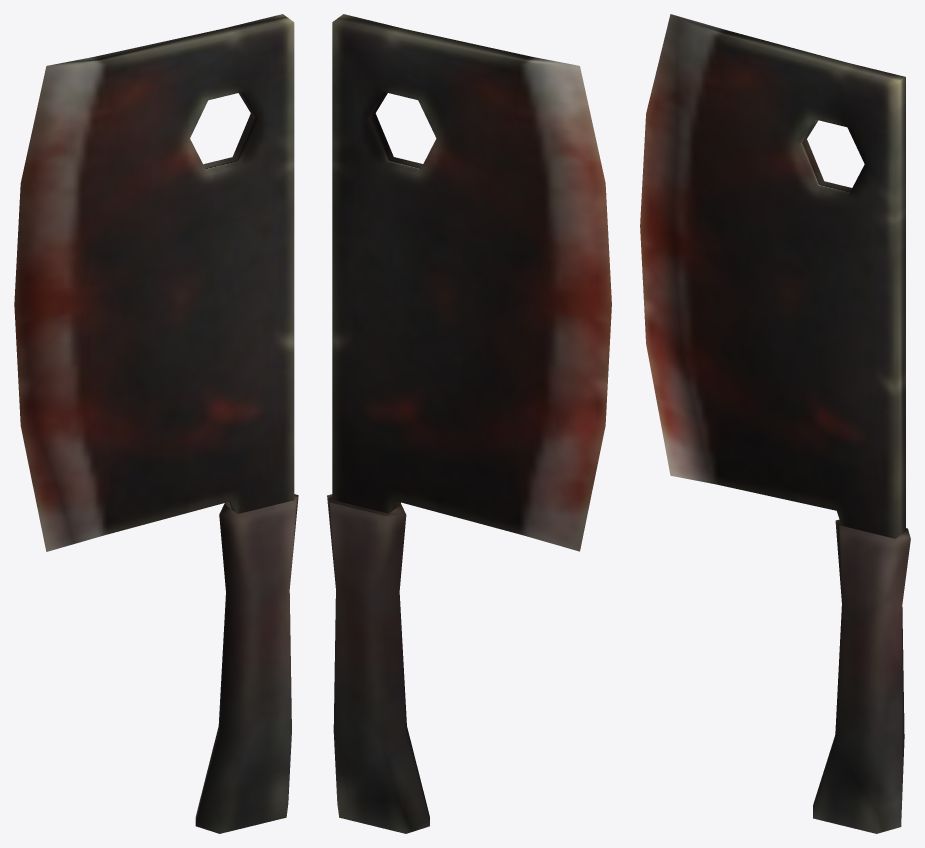
File: hallowCleaver.glb
The picture shows the model from 3 angles, left to right: view 1: azimuth 30°, elevation 25°; view 2: azimuth 150°, elevation 25°; view 3: azimuth 330°, elevation 25°; orthographic projection. The views are drawn at different scales.
Visible parts, largest first — view 1: hallowCleaver; view 2: hallowCleaver; view 3: hallowCleaver.
Boxes of the visible parts, left/top/right/bottom form: hallowCleaver: left=14, top=14, right=298, bottom=833; hallowCleaver: left=327, top=14, right=611, bottom=833; hallowCleaver: left=640, top=14, right=910, bottom=833.
Bounding box in the file's own units: 0.4323 × 1.16 × 0.0629.
Materials: 1 (1 with a texture image).
